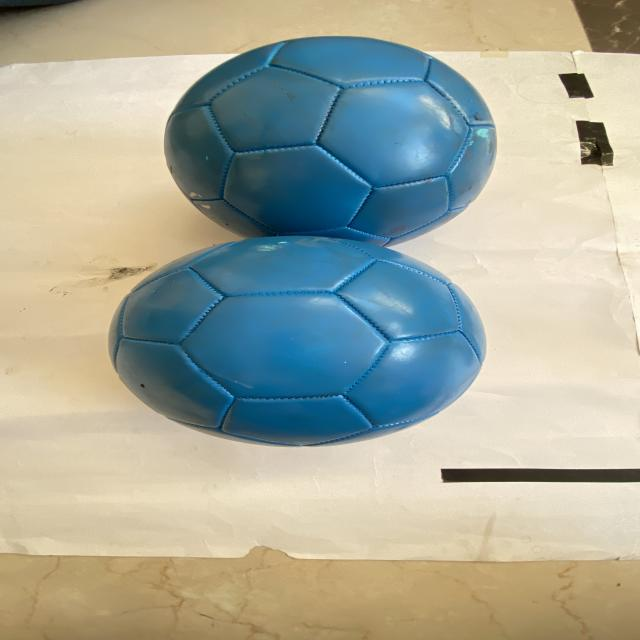blue_ball: (124, 234, 482, 442), (173, 38, 494, 234)
